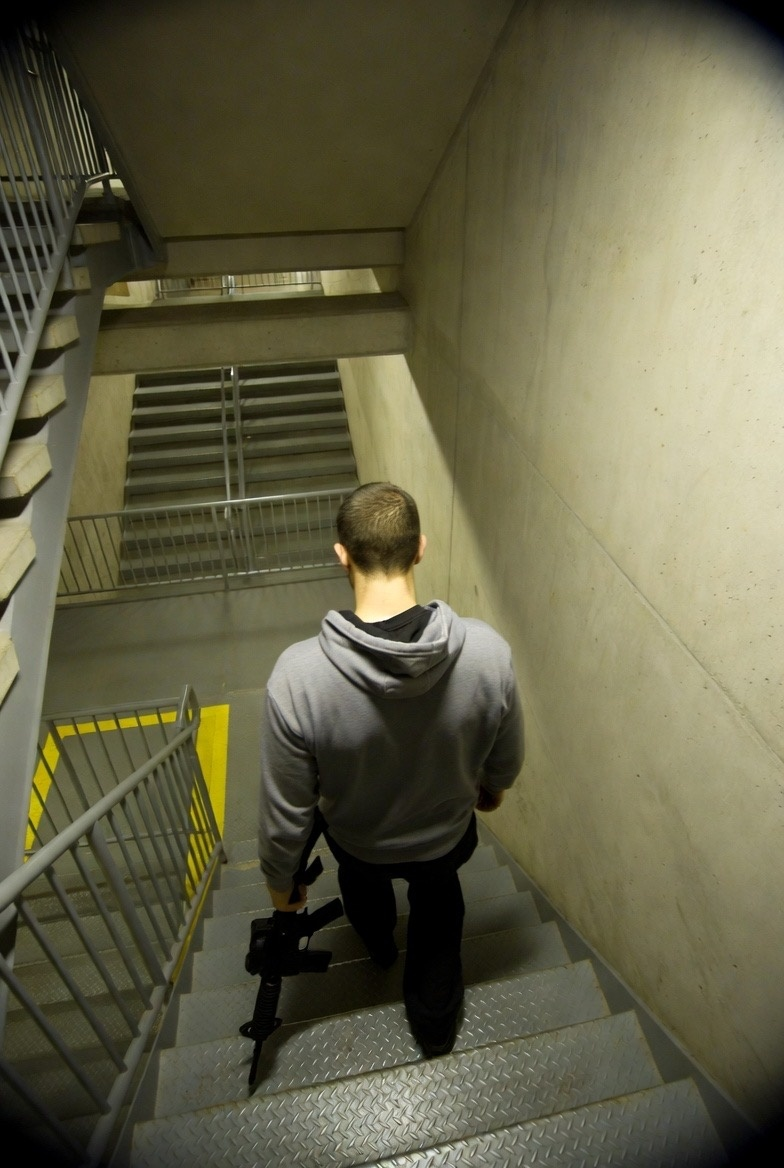gun: (233, 852, 342, 1089)
person: (236, 485, 519, 1044)
